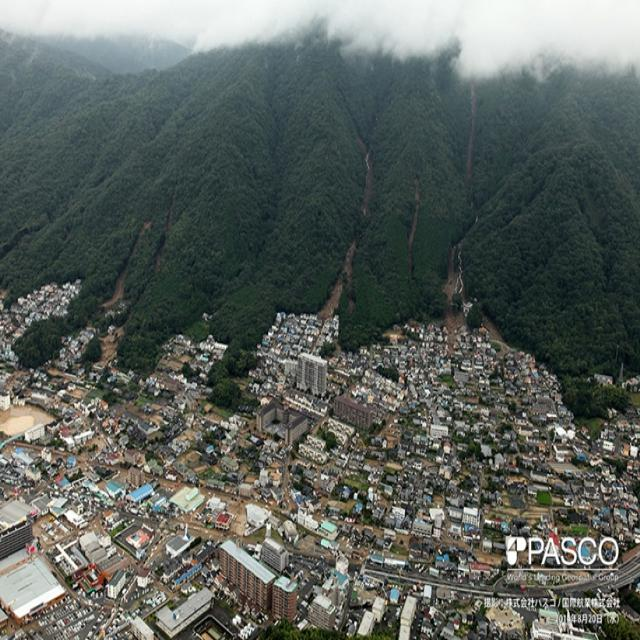Debris-flow: (104, 221, 151, 307), (319, 236, 359, 317), (465, 82, 479, 224), (406, 176, 421, 286), (359, 137, 375, 222), (445, 242, 464, 297)
